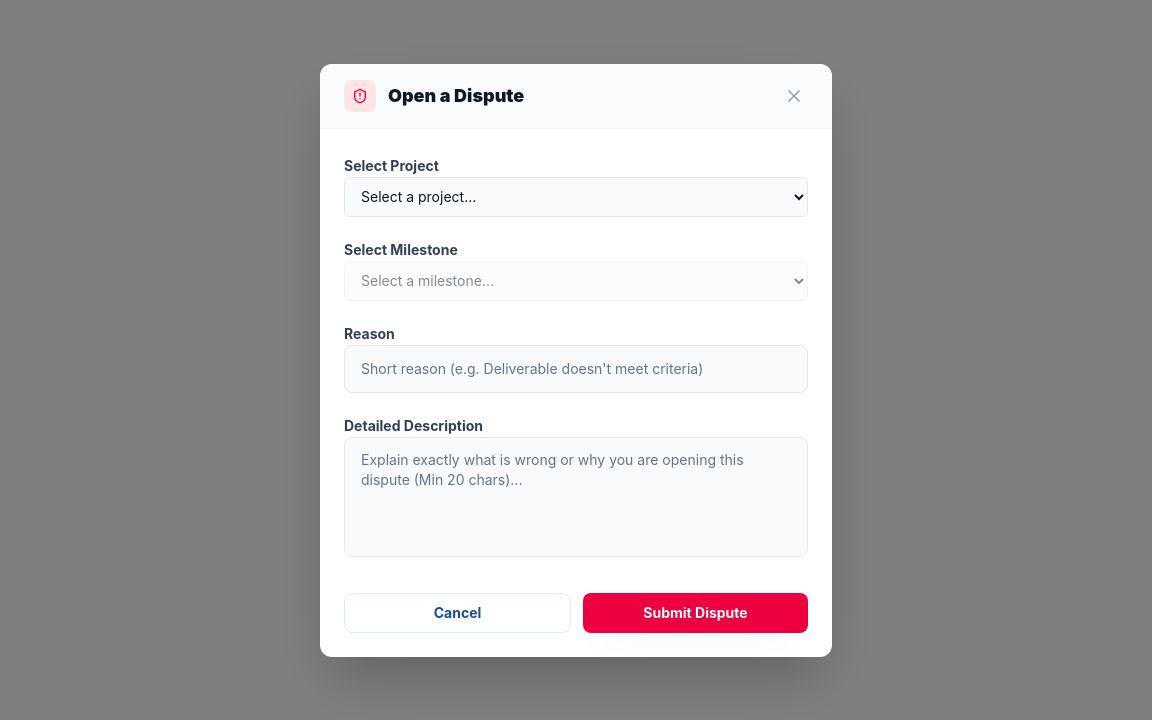
CreateDisputeModal › shows validation errors if required fields are missing
Click the button "Submit Dispute": click(696, 612) [583, 592, 808, 632]
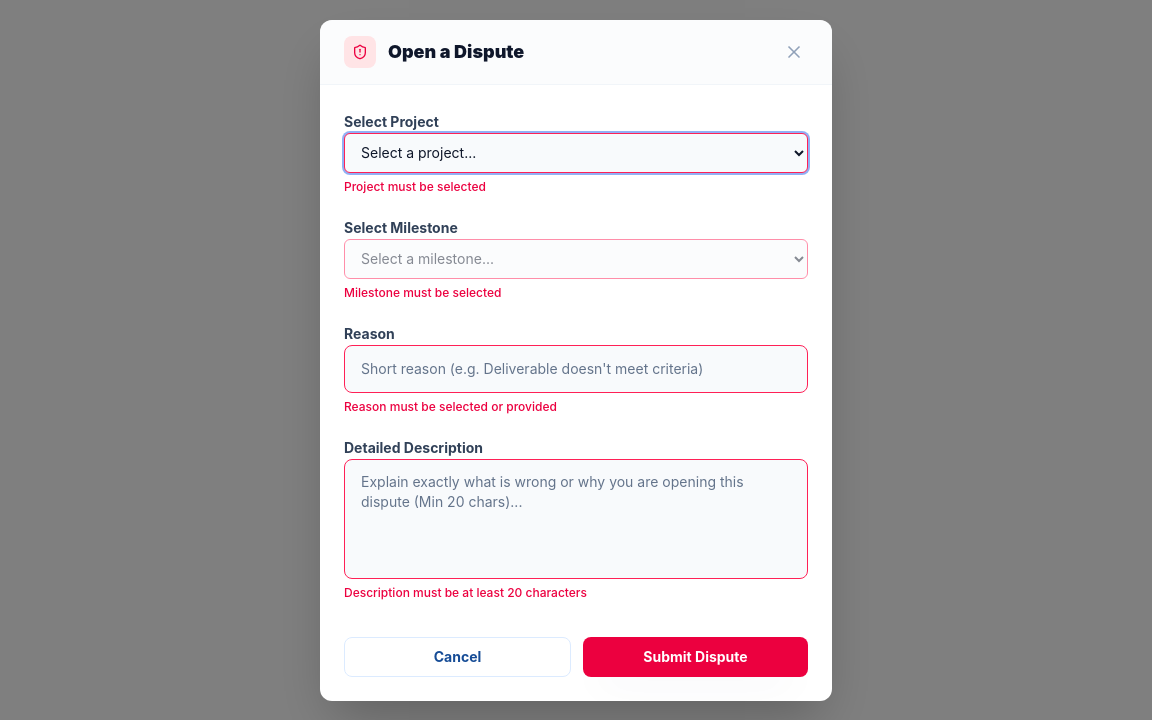
Check: the text "Project must be selected" is shown, box [344, 178, 486, 194]
Check: the text "Milestone must be selected" is shown, box [344, 284, 501, 300]
Check: the text "Reason must be selected or provided" is shown, box [344, 398, 557, 414]
